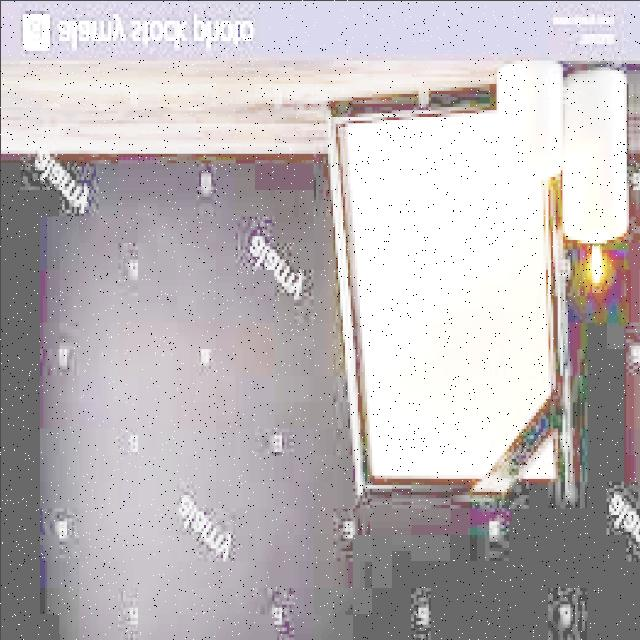api: (519, 187, 539, 233), (585, 244, 602, 290)
